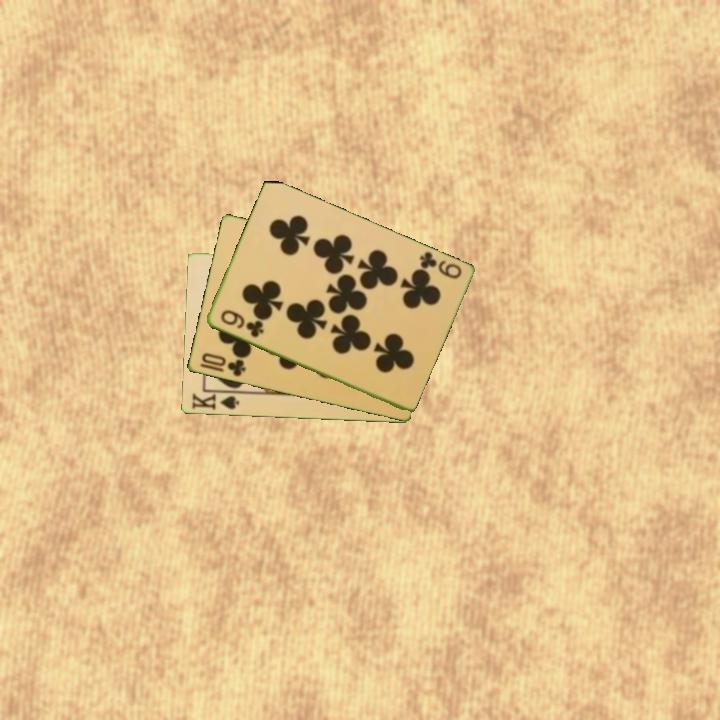10c: (198, 349, 248, 380)
9c: (216, 306, 267, 341), (415, 248, 464, 282)
Ks: (188, 390, 242, 413)
